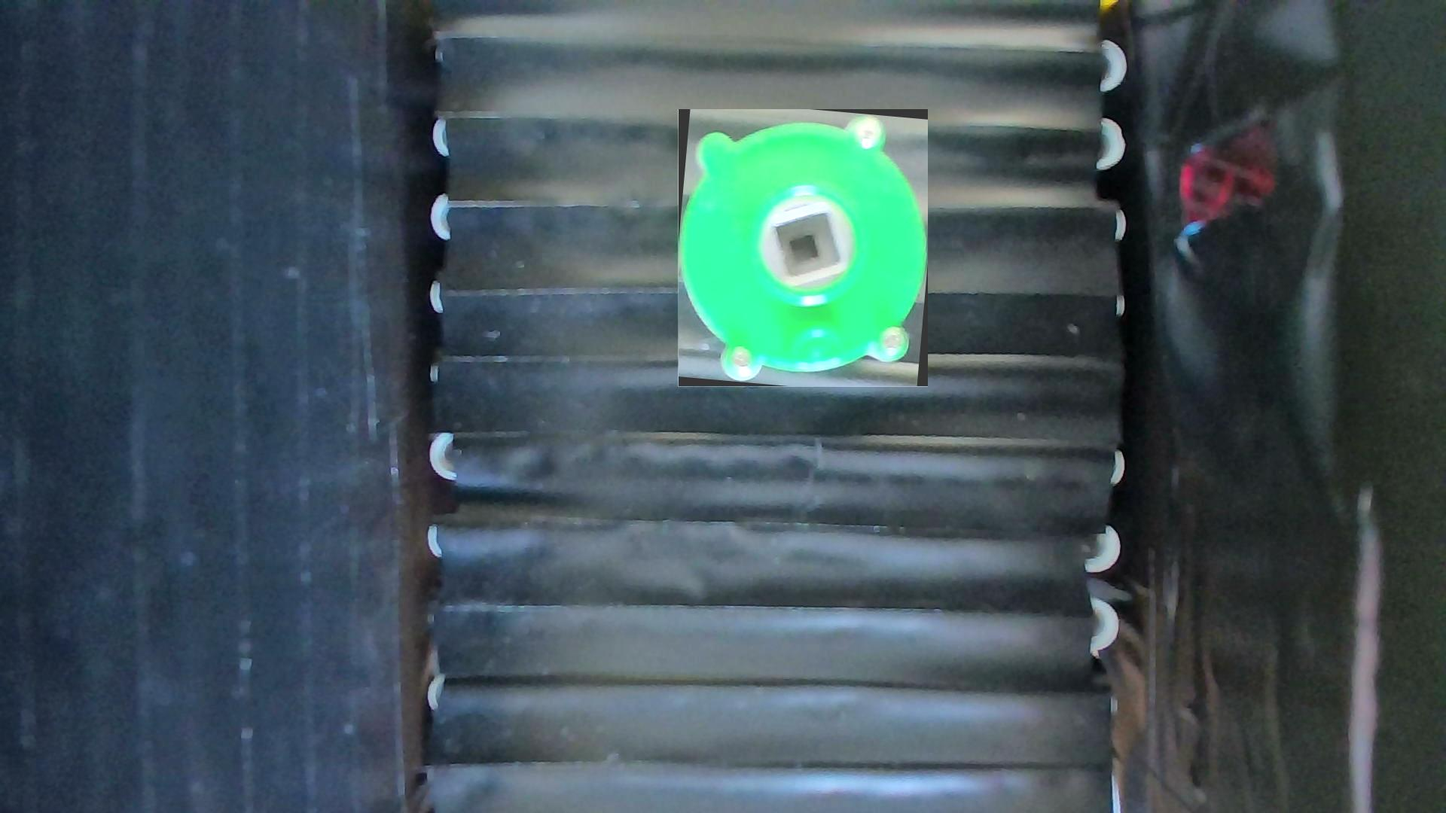cartridge: (677, 110, 927, 388)
